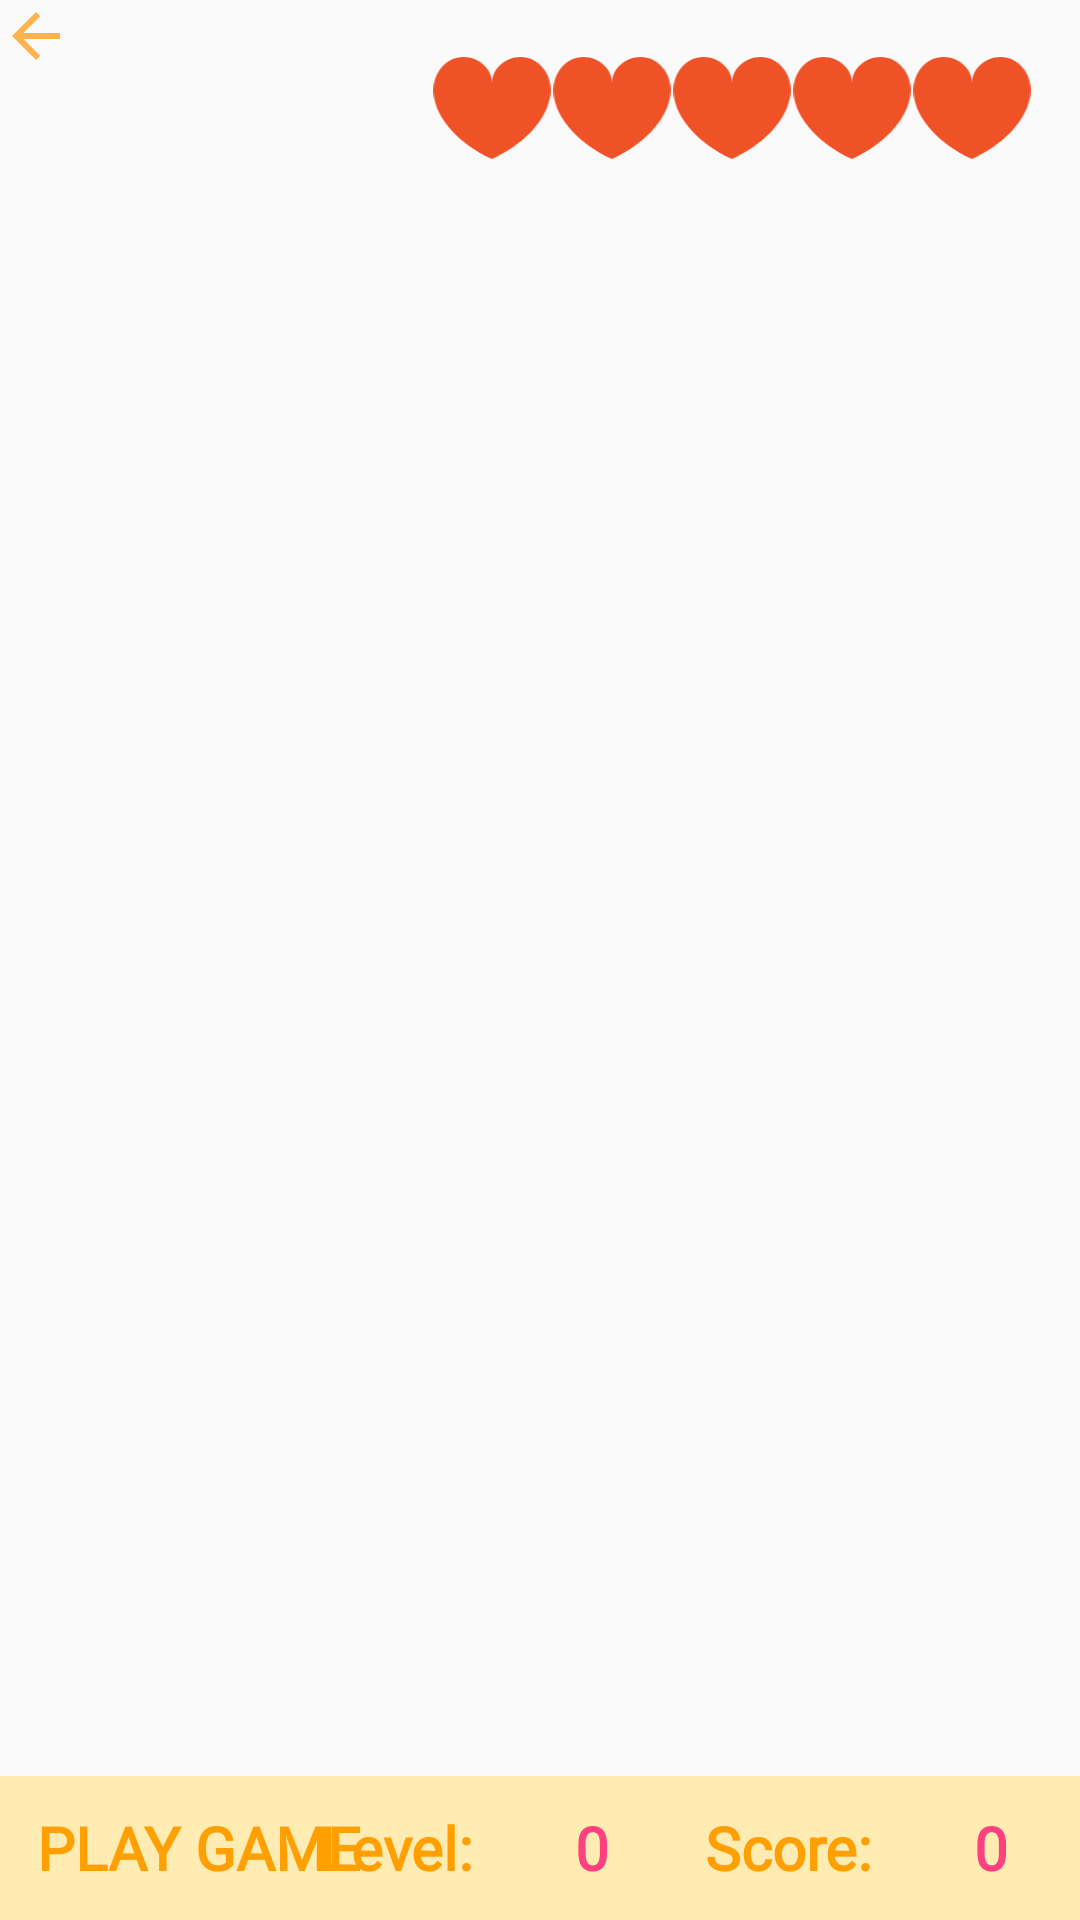

Where to tap for icons on this 1080px×1920px app screen, as [x,y]:
arrow back: [36,36]
Game life: [492,108], [612,108], [732,108], [852,108], [972,108]
